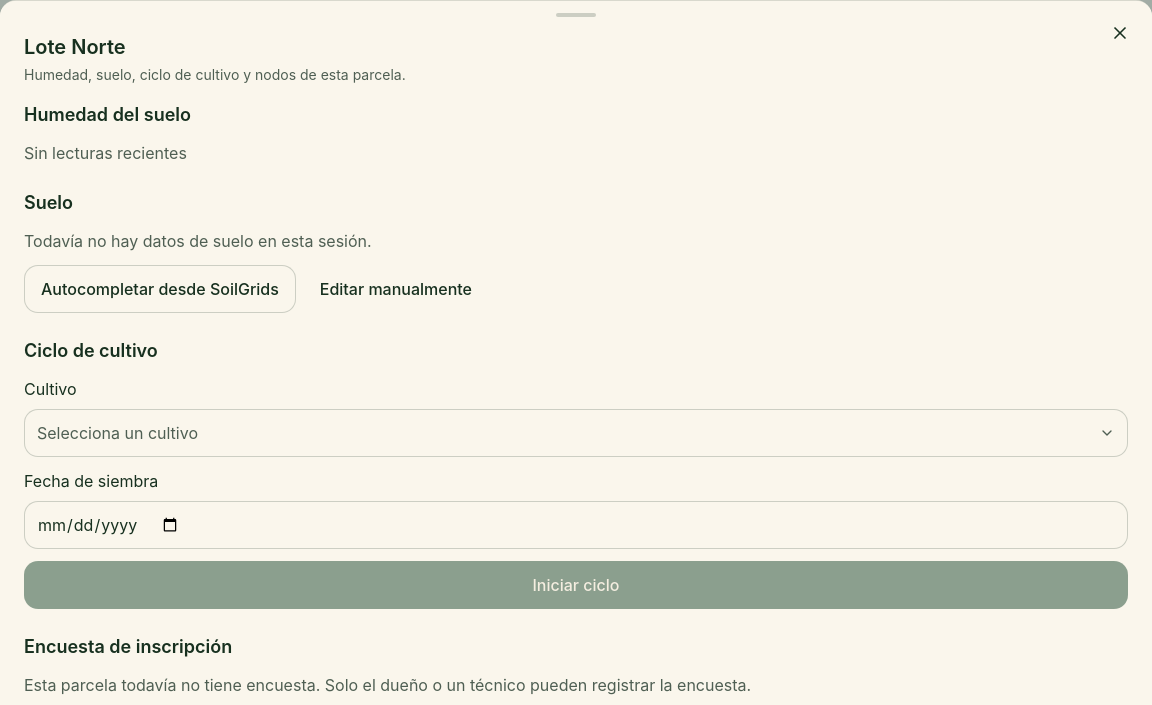
Test: PlotDetailSheet › shows general error copy for 502/503 on cycle POST, not SoilGrids copy
Click the dropdown at [118, 433], box 24,409 -> 1128,457
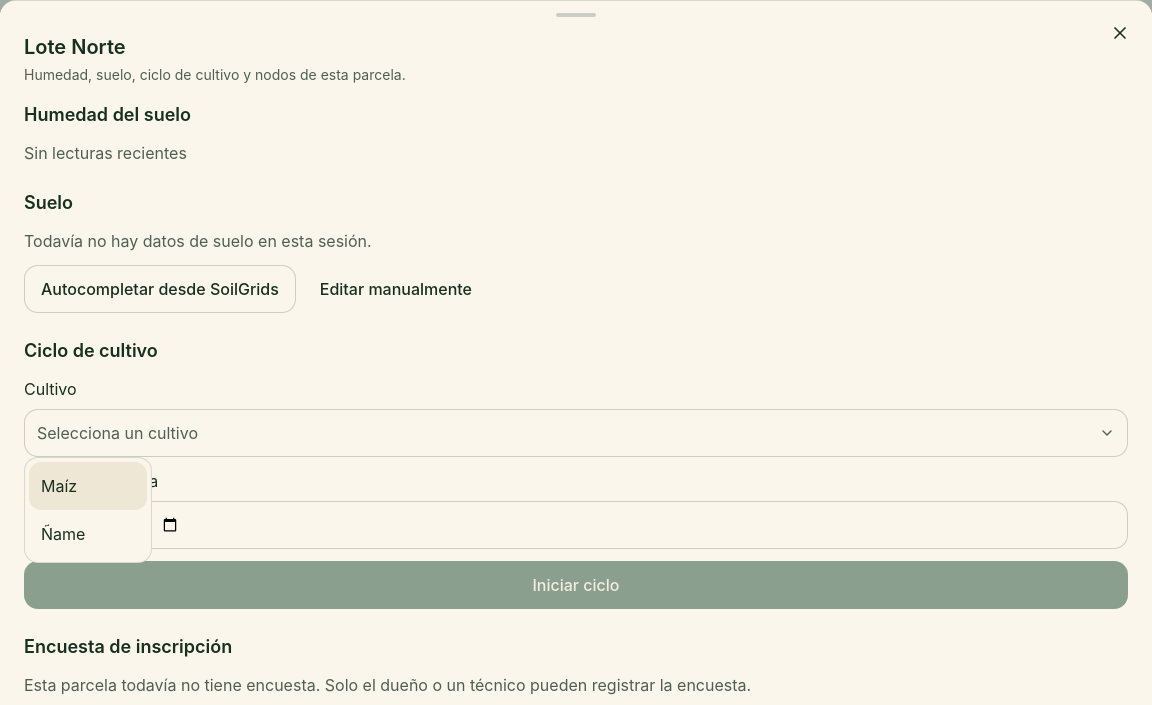
Click the option "Maíz" at [88, 486], box 29,462 -> 147,510
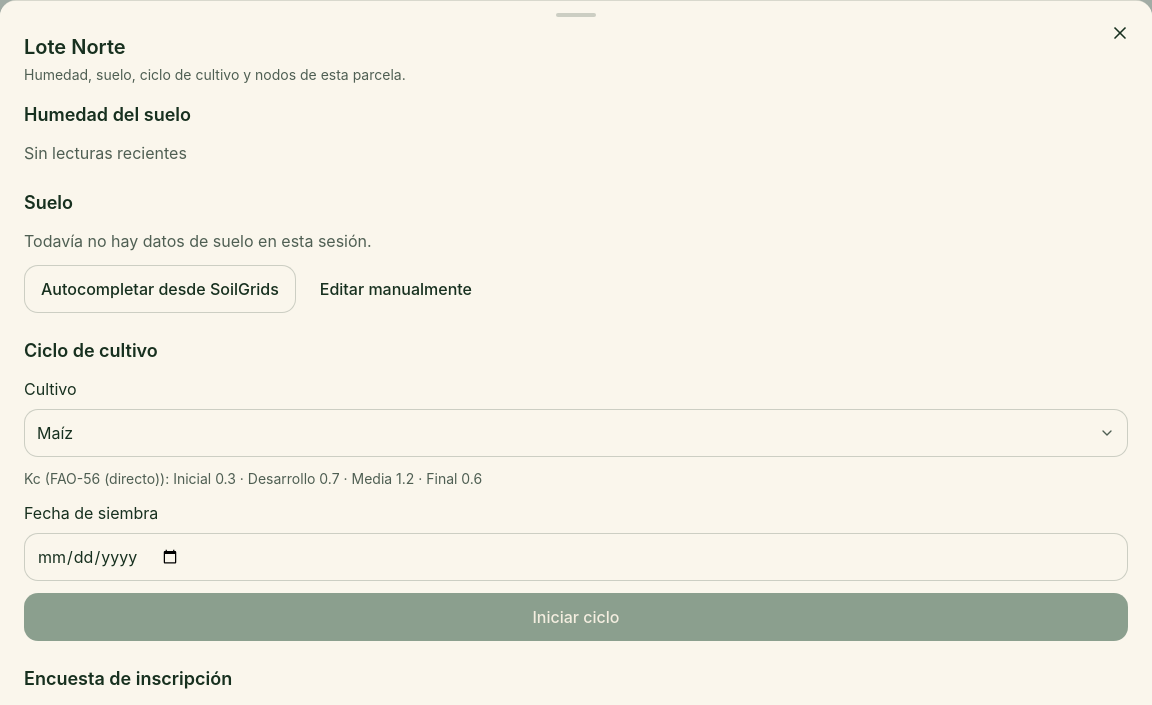
Type "2026-06-01" into the date field labelled "Fecha de siembra" at [576, 557], box 24,533 -> 1128,581
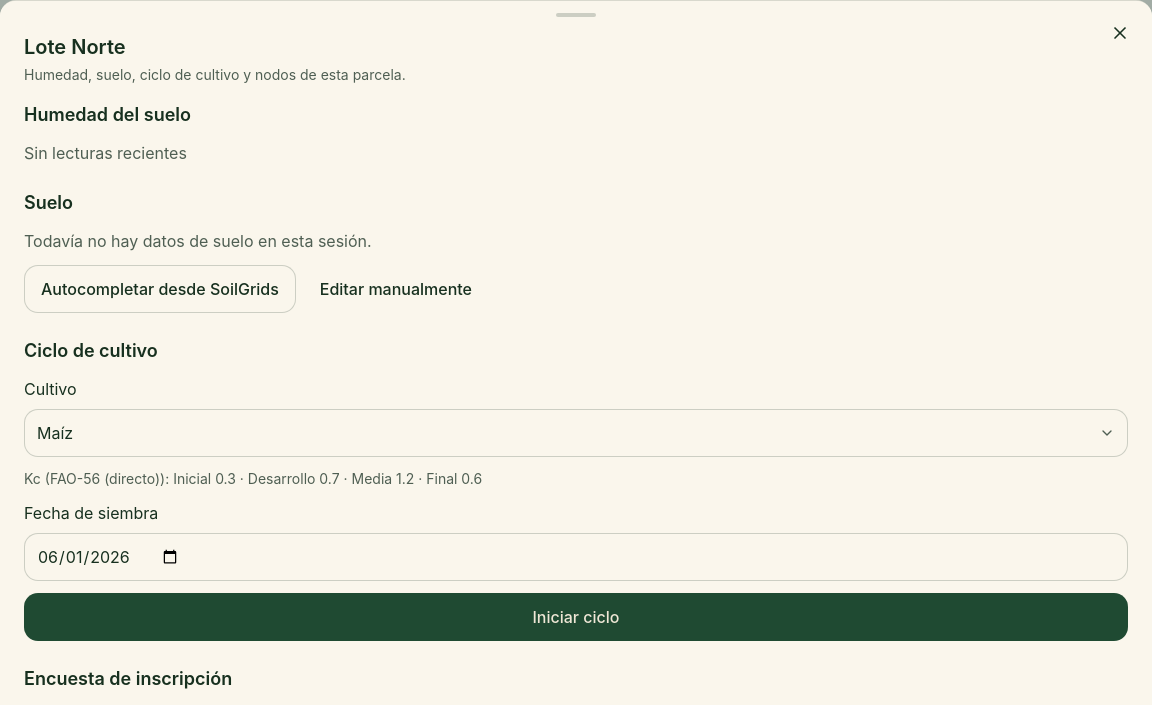
Click the button "Iniciar ciclo" at [576, 617], box 24,593 -> 1128,641
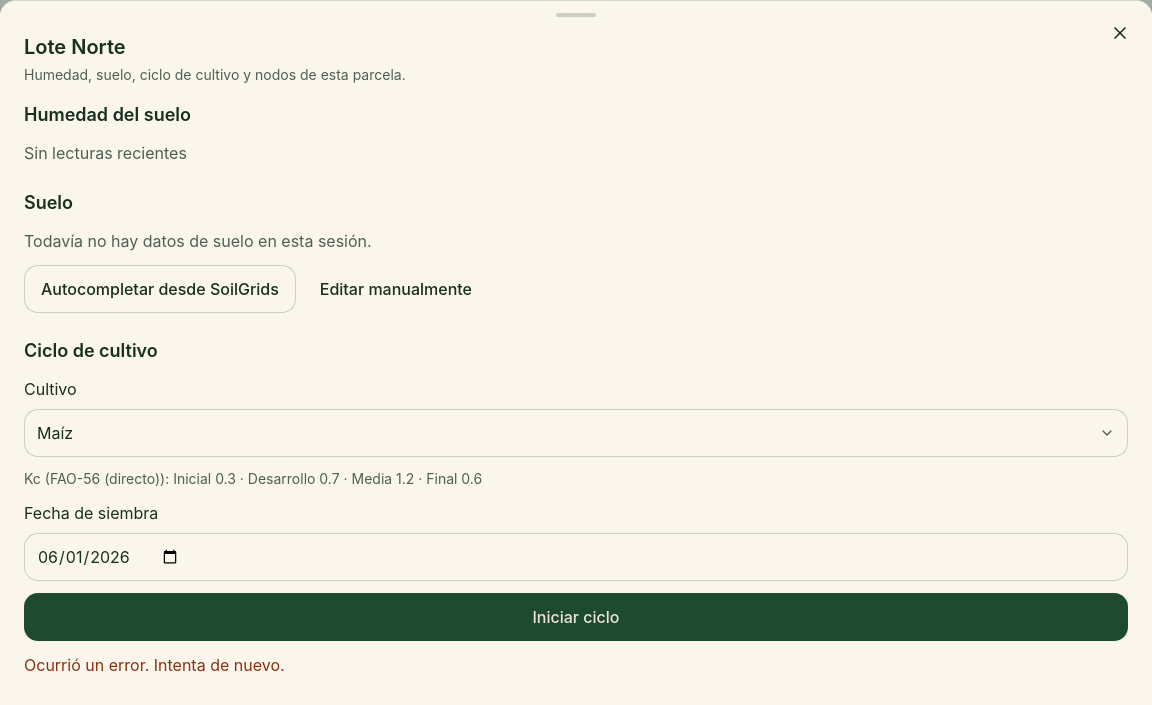
expect the text "Ocurrió un error. Intenta de nuevo." is shown: met, box 24,655 -> 285,675
